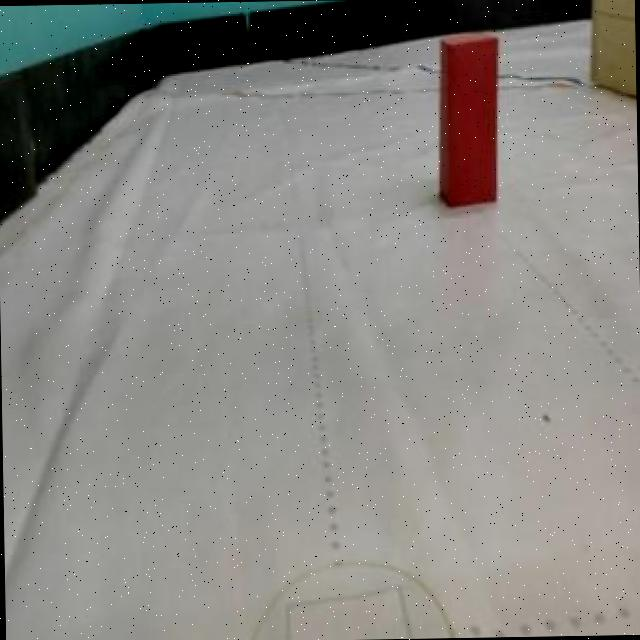redbox: (437, 30, 502, 212)
